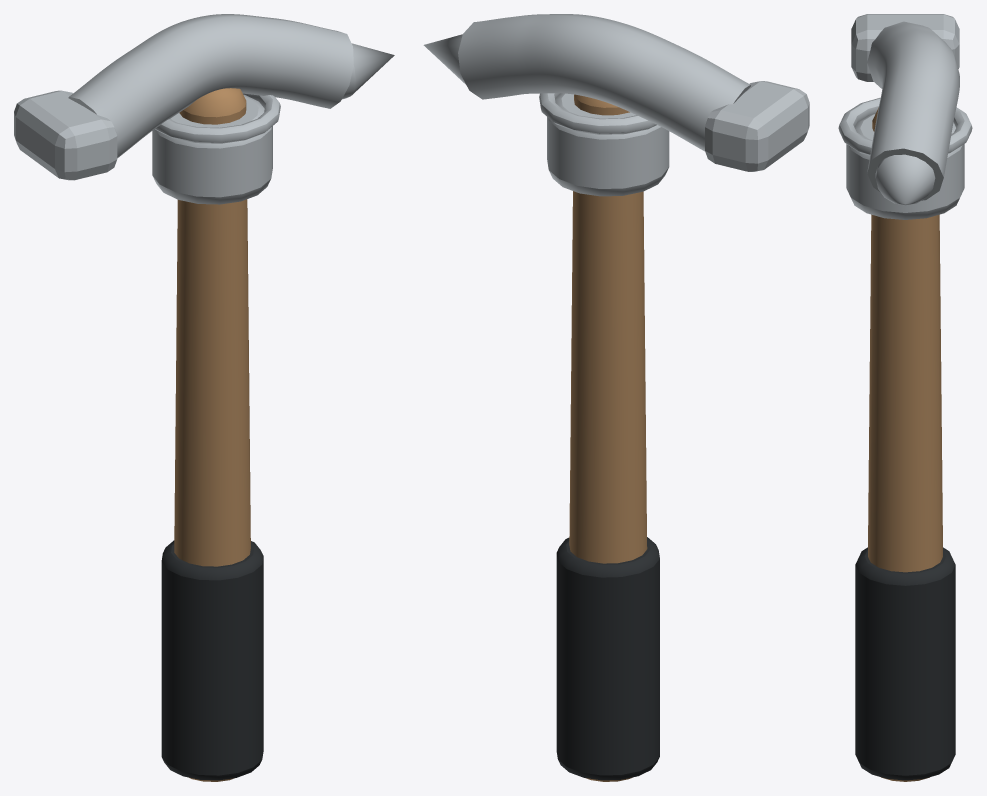
Rendered from hand_pick.glb.
The picture shows the model from 3 angles, left to right: view 1: azimuth 30°, elevation 25°; view 2: azimuth 150°, elevation 25°; view 3: azimuth 270°, elevation 25°; orthographic projection. The views are drawn at different scales.
Parts seen in each view (by area): view 1: Pick_Wooden_Haft, Pick_Grip_Wrap, Pick_Curved_Head, Pick_Head_Collar, Pick_Flat_Chisel, Pick_Collar_Lip, Pick_Point; view 2: Pick_Wooden_Haft, Pick_Grip_Wrap, Pick_Curved_Head, Pick_Head_Collar, Pick_Flat_Chisel, Pick_Collar_Lip, Pick_Point; view 3: Pick_Wooden_Haft, Pick_Grip_Wrap, Pick_Curved_Head, Pick_Head_Collar, Pick_Flat_Chisel, Pick_Point, Pick_Collar_Lip.
Part boxes in pixels (box(x1,y1,x2,y2)): Pick_Wooden_Haft: box(174, 88, 250, 781); Pick_Grip_Wrap: box(161, 540, 263, 780); Pick_Curved_Head: box(68, 14, 353, 158); Pick_Head_Collar: box(152, 94, 272, 204); Pick_Flat_Chisel: box(14, 90, 117, 180); Pick_Collar_Lip: box(155, 93, 280, 143); Pick_Point: box(342, 43, 394, 99); Pick_Wooden_Haft: box(569, 94, 647, 781); Pick_Grip_Wrap: box(556, 537, 659, 780); Pick_Curved_Head: box(458, 14, 750, 151); Pick_Head_Collar: box(547, 93, 669, 196); Pick_Flat_Chisel: box(705, 81, 809, 171); Pick_Collar_Lip: box(539, 93, 656, 134); Pick_Point: box(423, 34, 465, 84); Pick_Wooden_Haft: box(868, 107, 942, 781); Pick_Grip_Wrap: box(855, 547, 955, 780); Pick_Curved_Head: box(867, 21, 959, 200); Pick_Head_Collar: box(846, 113, 964, 219); Pick_Flat_Chisel: box(851, 14, 959, 81); Pick_Point: box(875, 154, 935, 205); Pick_Collar_Lip: box(838, 97, 972, 155).
Bounding box in the file's own units: 0.355 × 0.704 × 0.1177.
